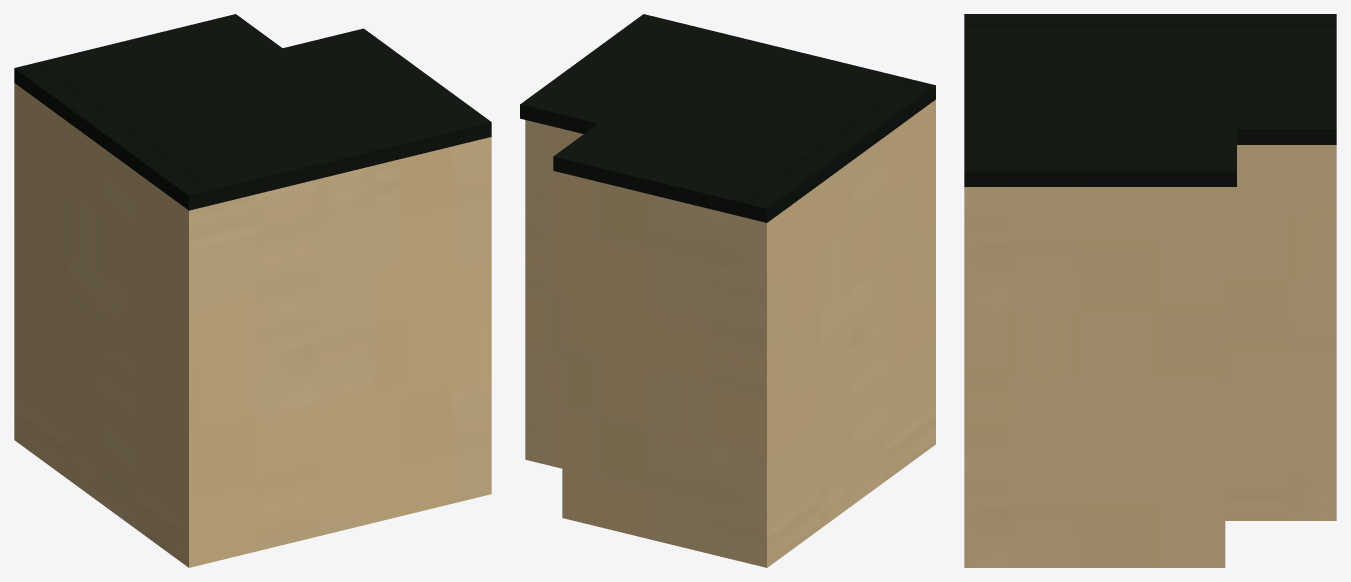
The model's file is CabinetGCorner01.glb.
3 views of the same model, side by side, from view 1: azimuth 30°, elevation 25°; view 2: azimuth 150°, elevation 25°; view 3: azimuth 270°, elevation 25° (orthographic). The views are drawn at different scales.
Visible parts, largest first — view 1: CabinetGCorner01_model; view 2: CabinetGCorner01_model; view 3: CabinetGCorner01_model.
Boxes of the visible parts, x1,y1,x2,y2 form: CabinetGCorner01_model: (14, 14, 491, 567); CabinetGCorner01_model: (520, 14, 935, 567); CabinetGCorner01_model: (964, 14, 1336, 567).
Size of the model in its own units: 1.72 by 2.02 by 1.72.
Materials: 1 (1 with a texture image).
